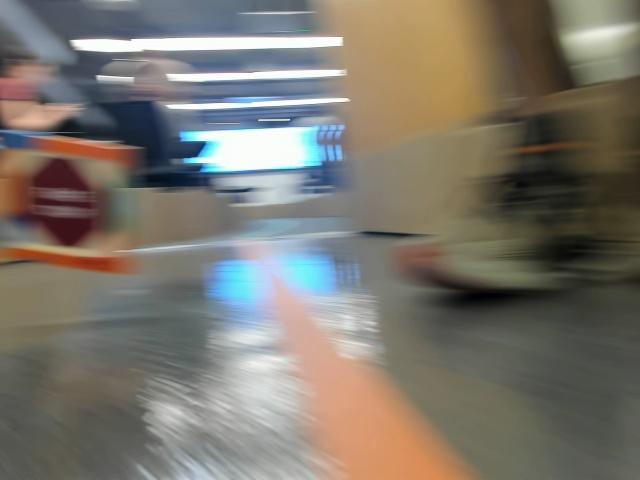Fake Stop: (15, 156, 106, 247)
